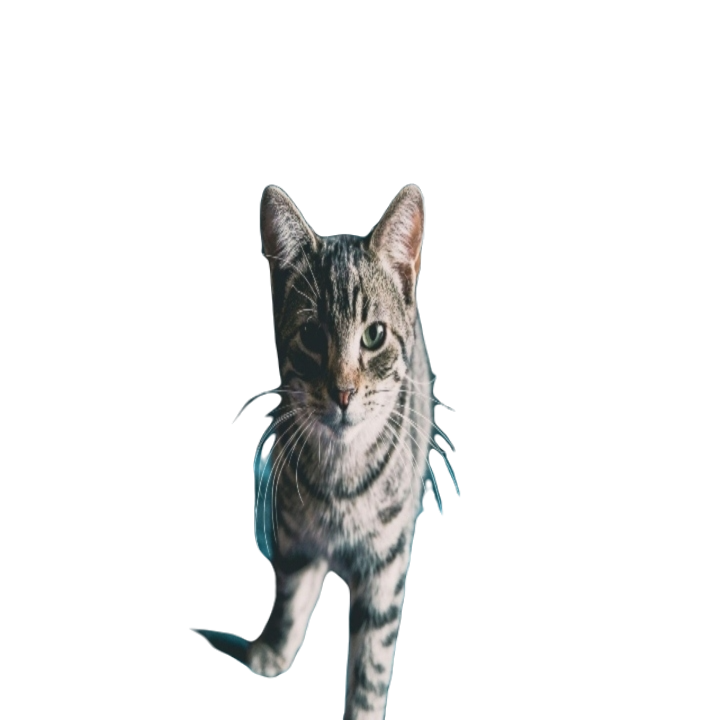Cat: (193, 176, 464, 719)
